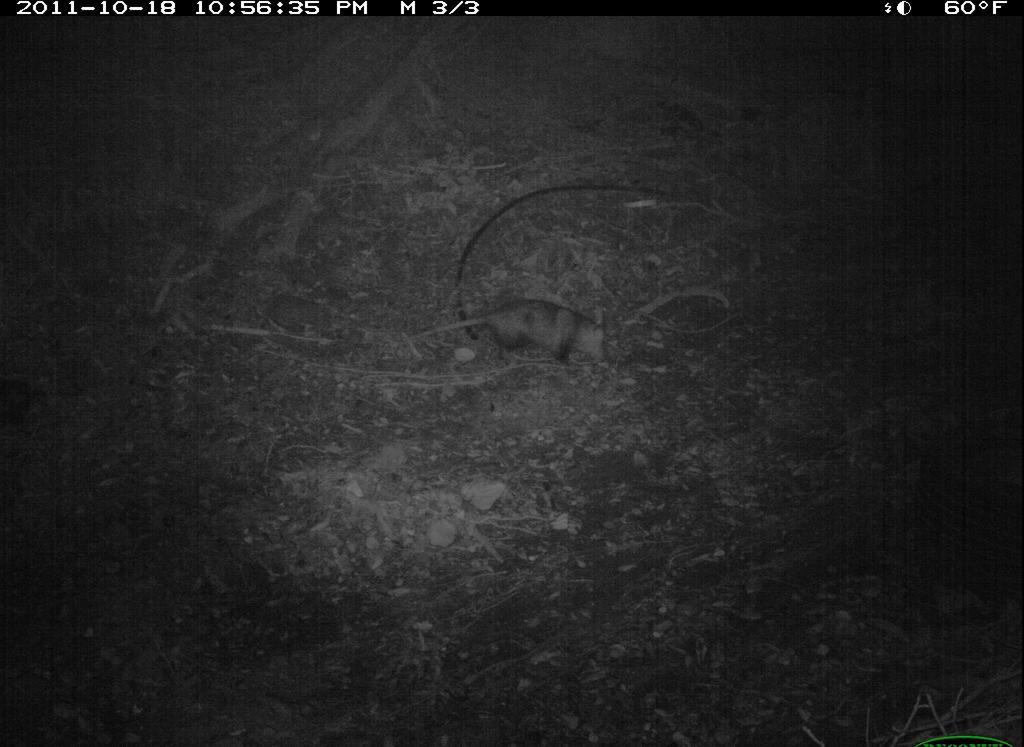opossum: (390, 280, 625, 391)
